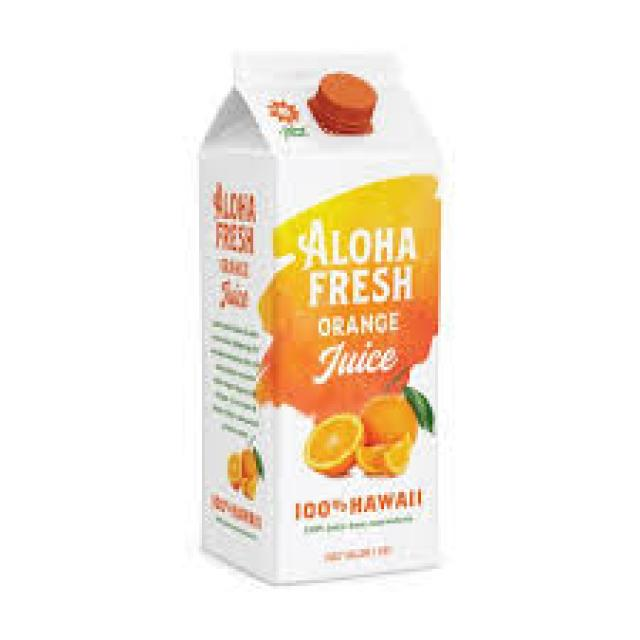non_white_jug: (164, 30, 454, 590)
